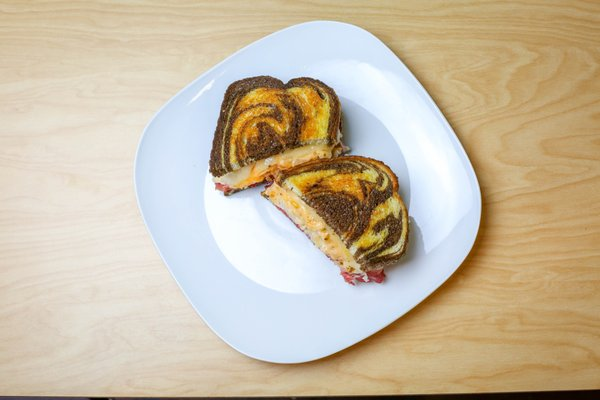soup: (261, 153, 410, 283)
